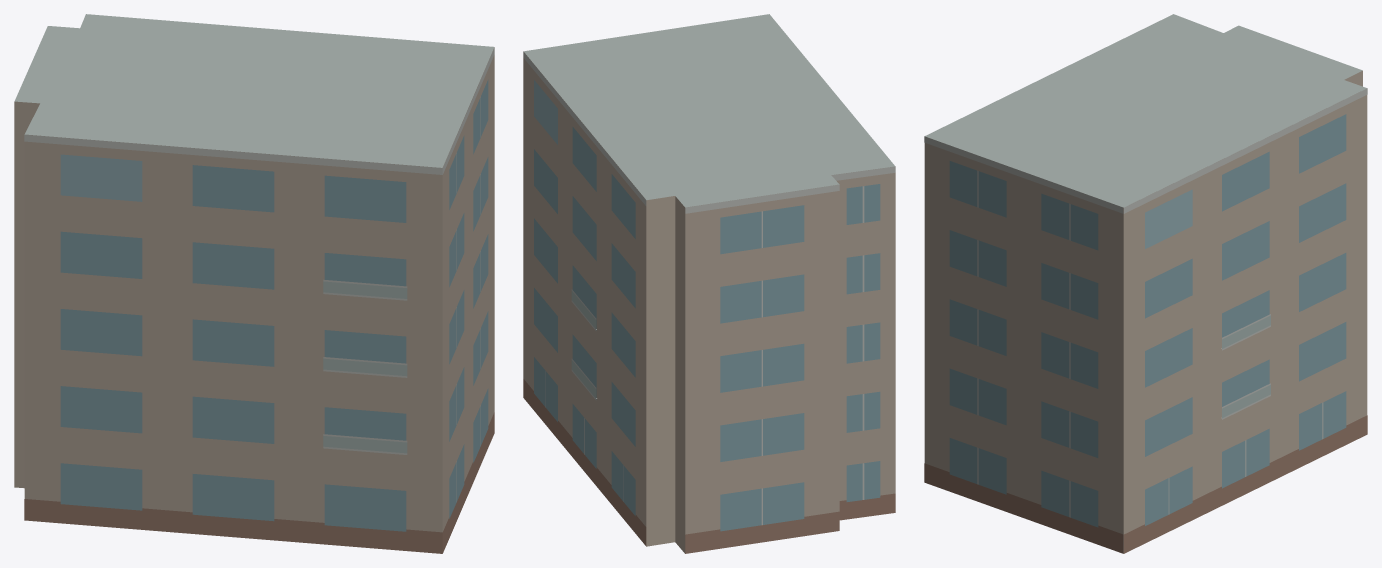
The model's file is survey-upis-32890907.glb.
The picture shows the model from 3 angles, left to right: view 1: azimuth 30°, elevation 25°; view 2: azimuth 150°, elevation 25°; view 3: azimuth 270°, elevation 25°; orthographic projection. The views are drawn at different scales.
Visible parts, largest first — view 1: survey-upis-32890907.tmp; view 2: survey-upis-32890907.tmp; view 3: survey-upis-32890907.tmp.
Boxes of the visible parts, box(x1,y1,x2,y2) form: survey-upis-32890907.tmp: box(14, 14, 494, 553); survey-upis-32890907.tmp: box(523, 14, 895, 553); survey-upis-32890907.tmp: box(924, 14, 1367, 553).
Size of the model in its own units: 15.96 by 13.3 by 15.43.
